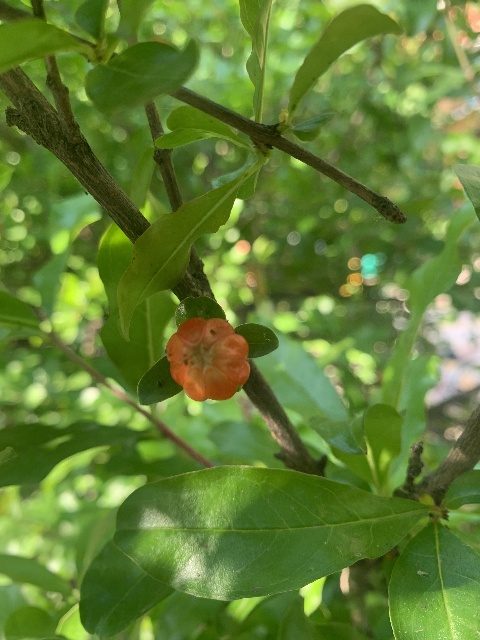bud: (166, 317, 250, 402)
